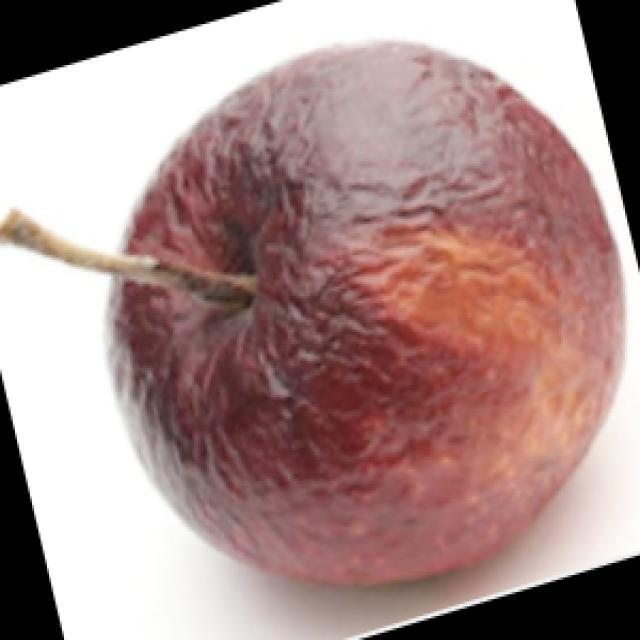Rotten: (112, 35, 628, 602)
